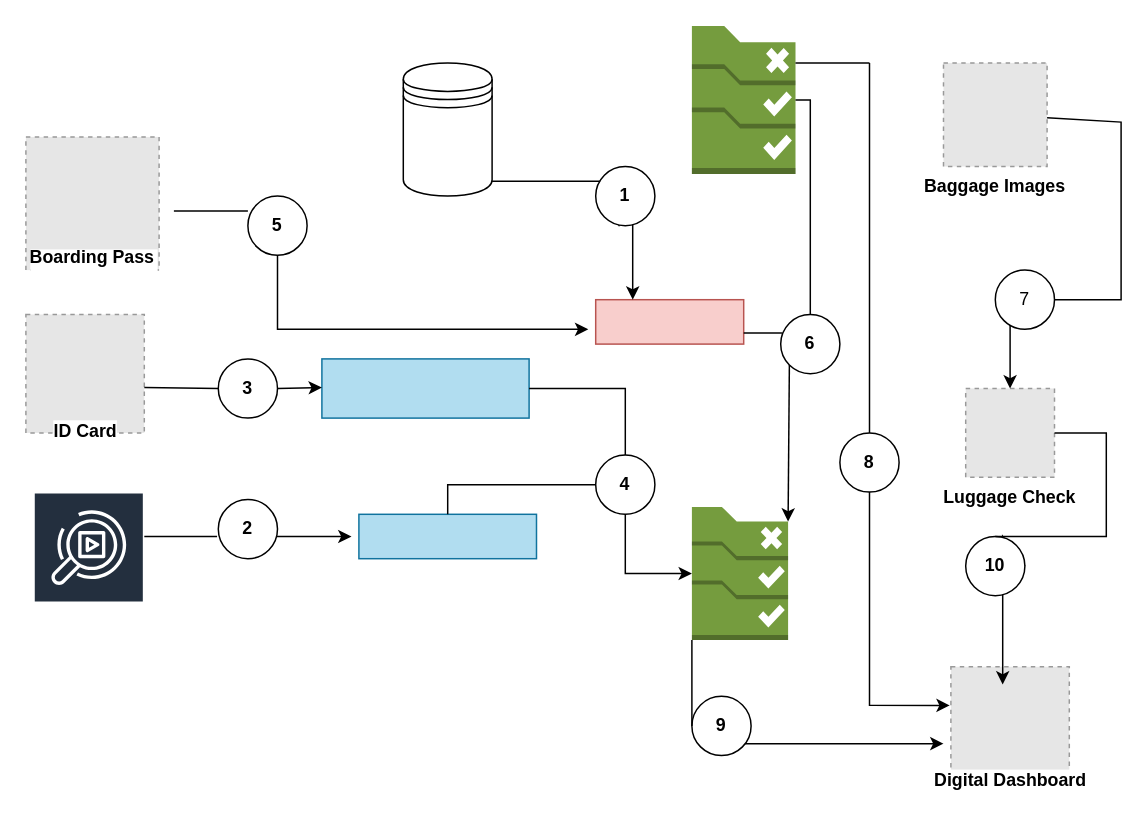
Some shapes in this 1148 by 817 pixel diagram are drawn without their labels. Grey dashed boxes stand in for pictures. Here are the shapes that lost their labels. From the top down, the centre of each, then its label:
(743,99): Boarding Pass Validation
(447,128): Manifest table
(669,321): Flight Details
(424,387): Personal Information
(446,536): Identity (Face)
(88,580): Video Kiosk
(739,572): Identity validation
